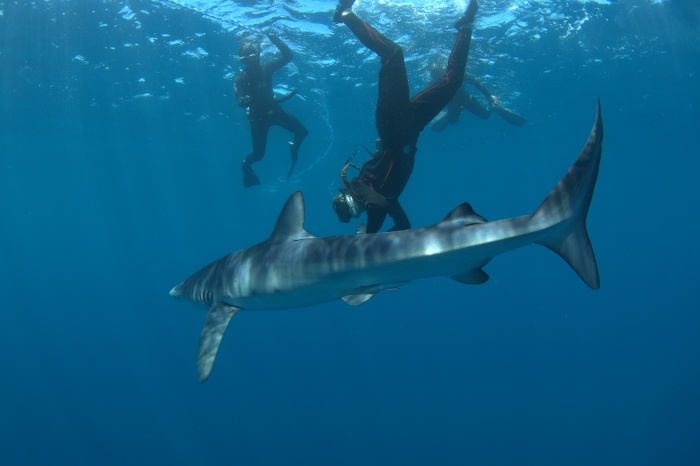Azul: (123, 96, 637, 395)
